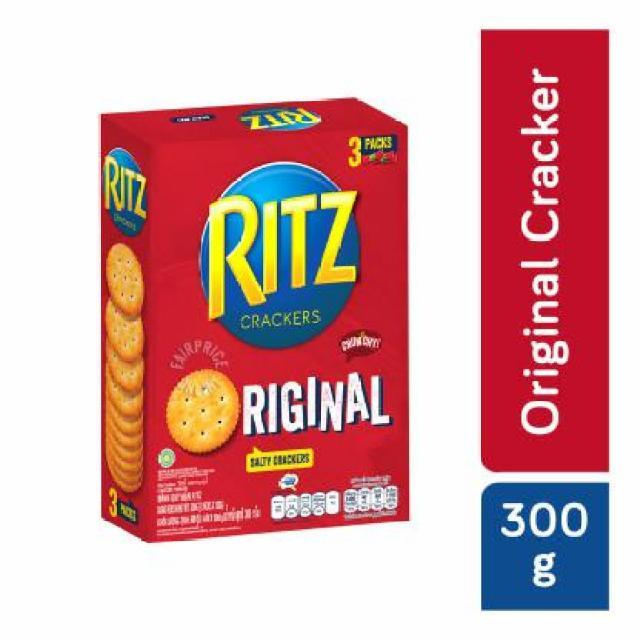Ritz cracker: (86, 114, 426, 542)
